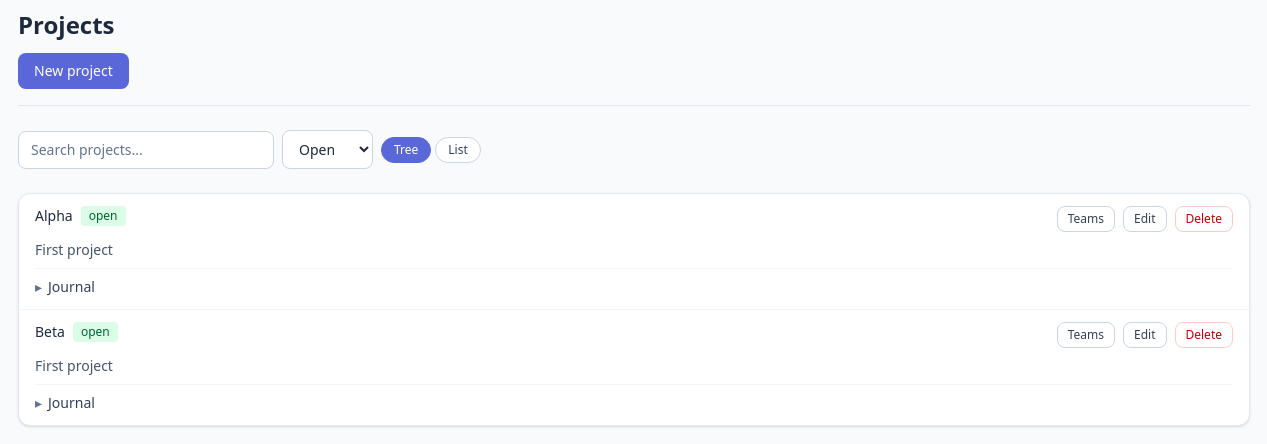
Scenario: ProjectsPanel - load states › filters the list by the search query
Expected: the text "Alpha" is shown, [35,206,73,226]
In the search field with placeholder "Search projects...": (146, 150) [18,130,274,168], type "Beta"
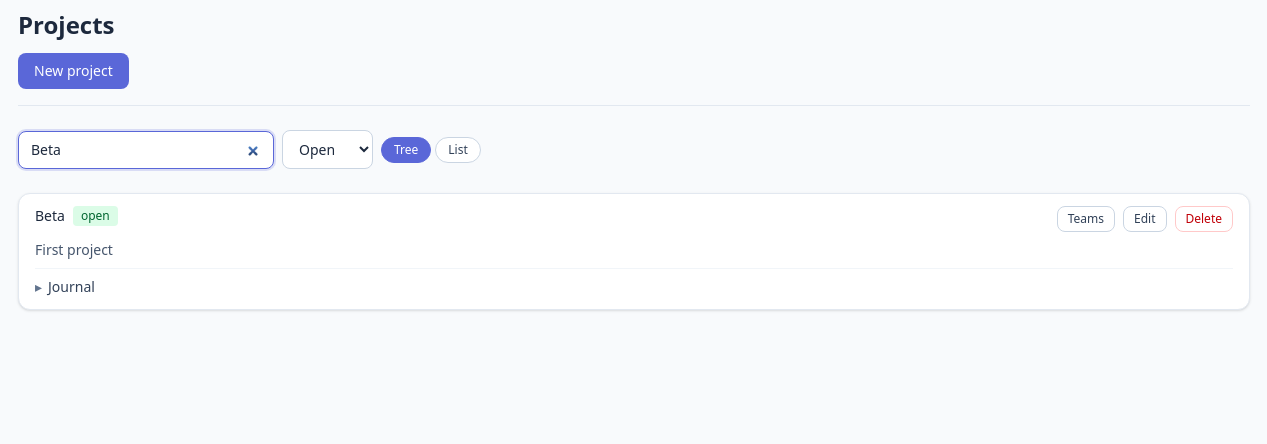
Expected: the text "Beta" is shown, [35,206,65,226]
Expected: the text "Alpha" is gone
